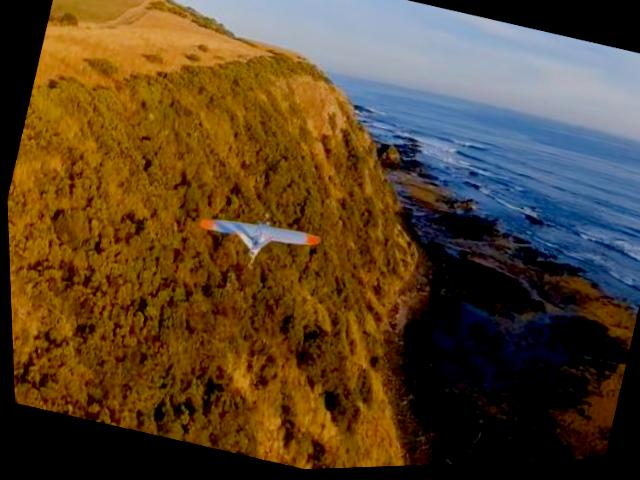uav: (187, 194, 322, 285)
